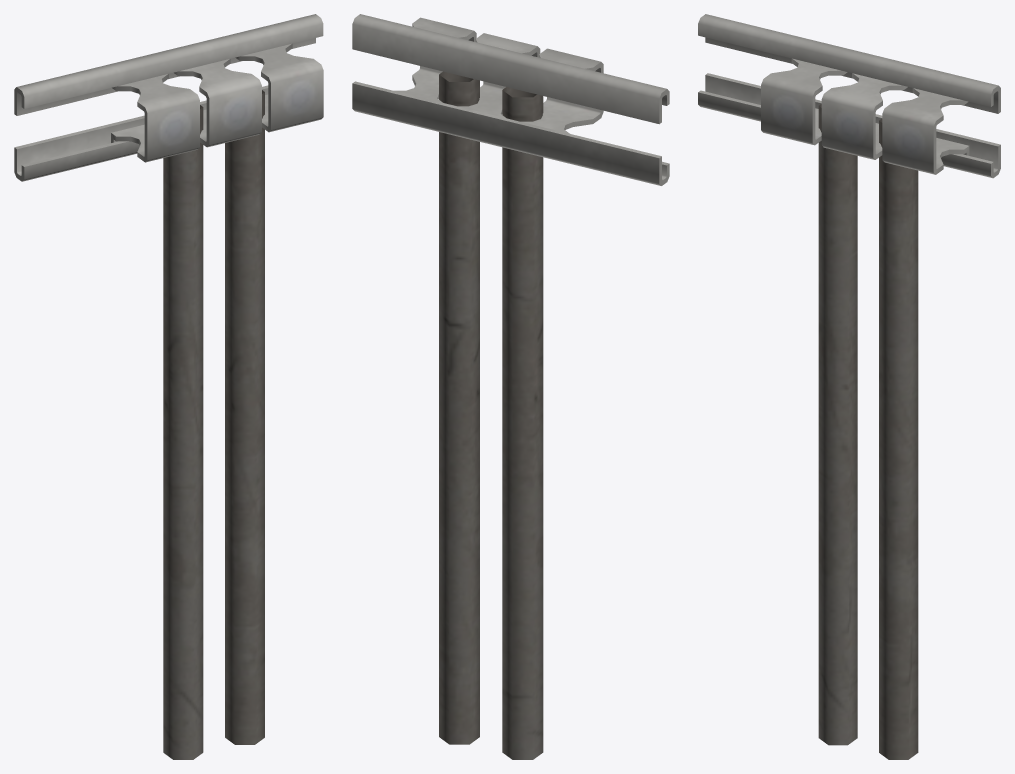
Rendered from cable_double_alt_short.glb.
The picture shows the model from 3 angles, left to right: view 1: azimuth 30°, elevation 25°; view 2: azimuth 150°, elevation 25°; view 3: azimuth 330°, elevation 25°; orthographic projection. The views are drawn at different scales.
Visible parts, largest first — view 1: cable_double_alt_short.001; view 2: cable_double_alt_short.001; view 3: cable_double_alt_short.001.
Part boxes in pixels (bbox=[...]): cable_double_alt_short.001: bbox=[14, 14, 323, 759]; cable_double_alt_short.001: bbox=[352, 14, 669, 759]; cable_double_alt_short.001: bbox=[698, 14, 1000, 759].
Bounding box in the file's own units: 0.097 × 0.2141 × 0.0221.
Materials: 1 (1 with a texture image).
